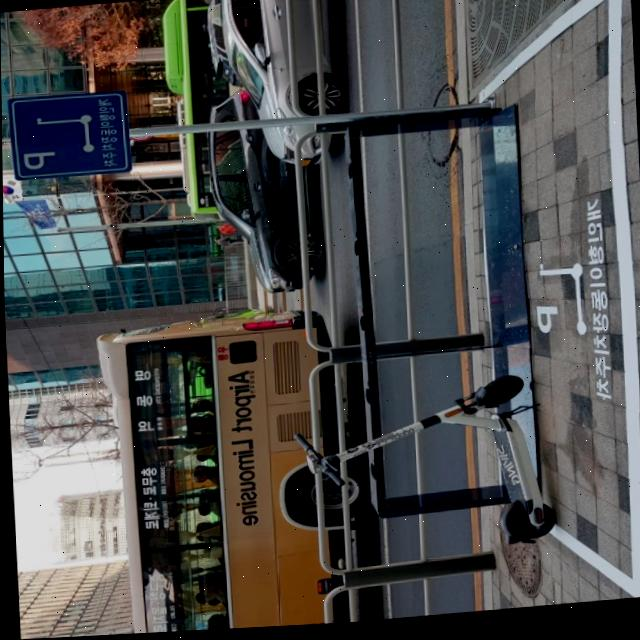kickboard_ok: (487, 358, 567, 549)
parking_zone: (525, 196, 617, 412), (6, 90, 131, 180)
